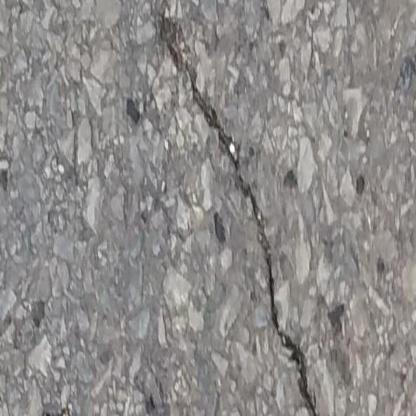Cracks: (168, 12, 324, 416), (21, 410, 80, 416)
